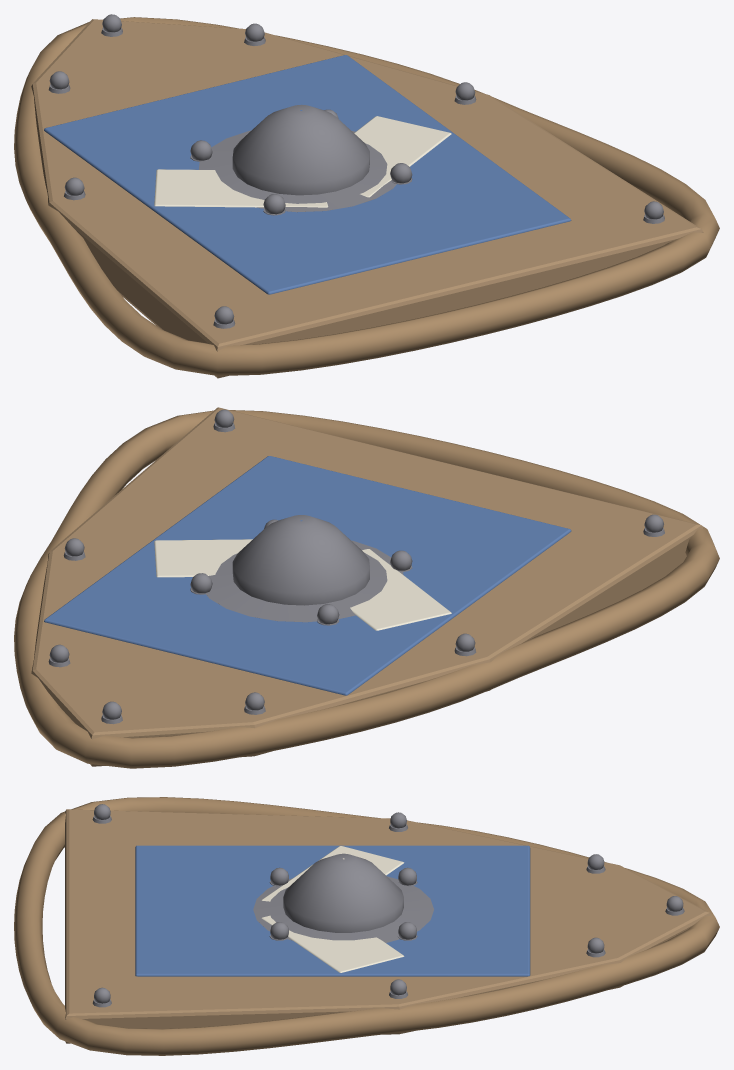
File: heater-shield.glb
The picture shows the model from 3 angles, top to bottom: view 1: azimuth 30°, elevation 25°; view 2: azimuth 150°, elevation 25°; view 3: azimuth 270°, elevation 25°; orthographic projection. The views are drawn at different scales.
Parts seen in each view (by area): view 1: heater-shield; view 2: heater-shield; view 3: heater-shield.
Part boxes in pixels (x1,y1,x2,y2): heater-shield: (14,14,719,378); heater-shield: (14,407,719,768); heater-shield: (14,797,719,1055).
Size of the model in its own units: 0.5264 by 0.123 by 0.6435.
